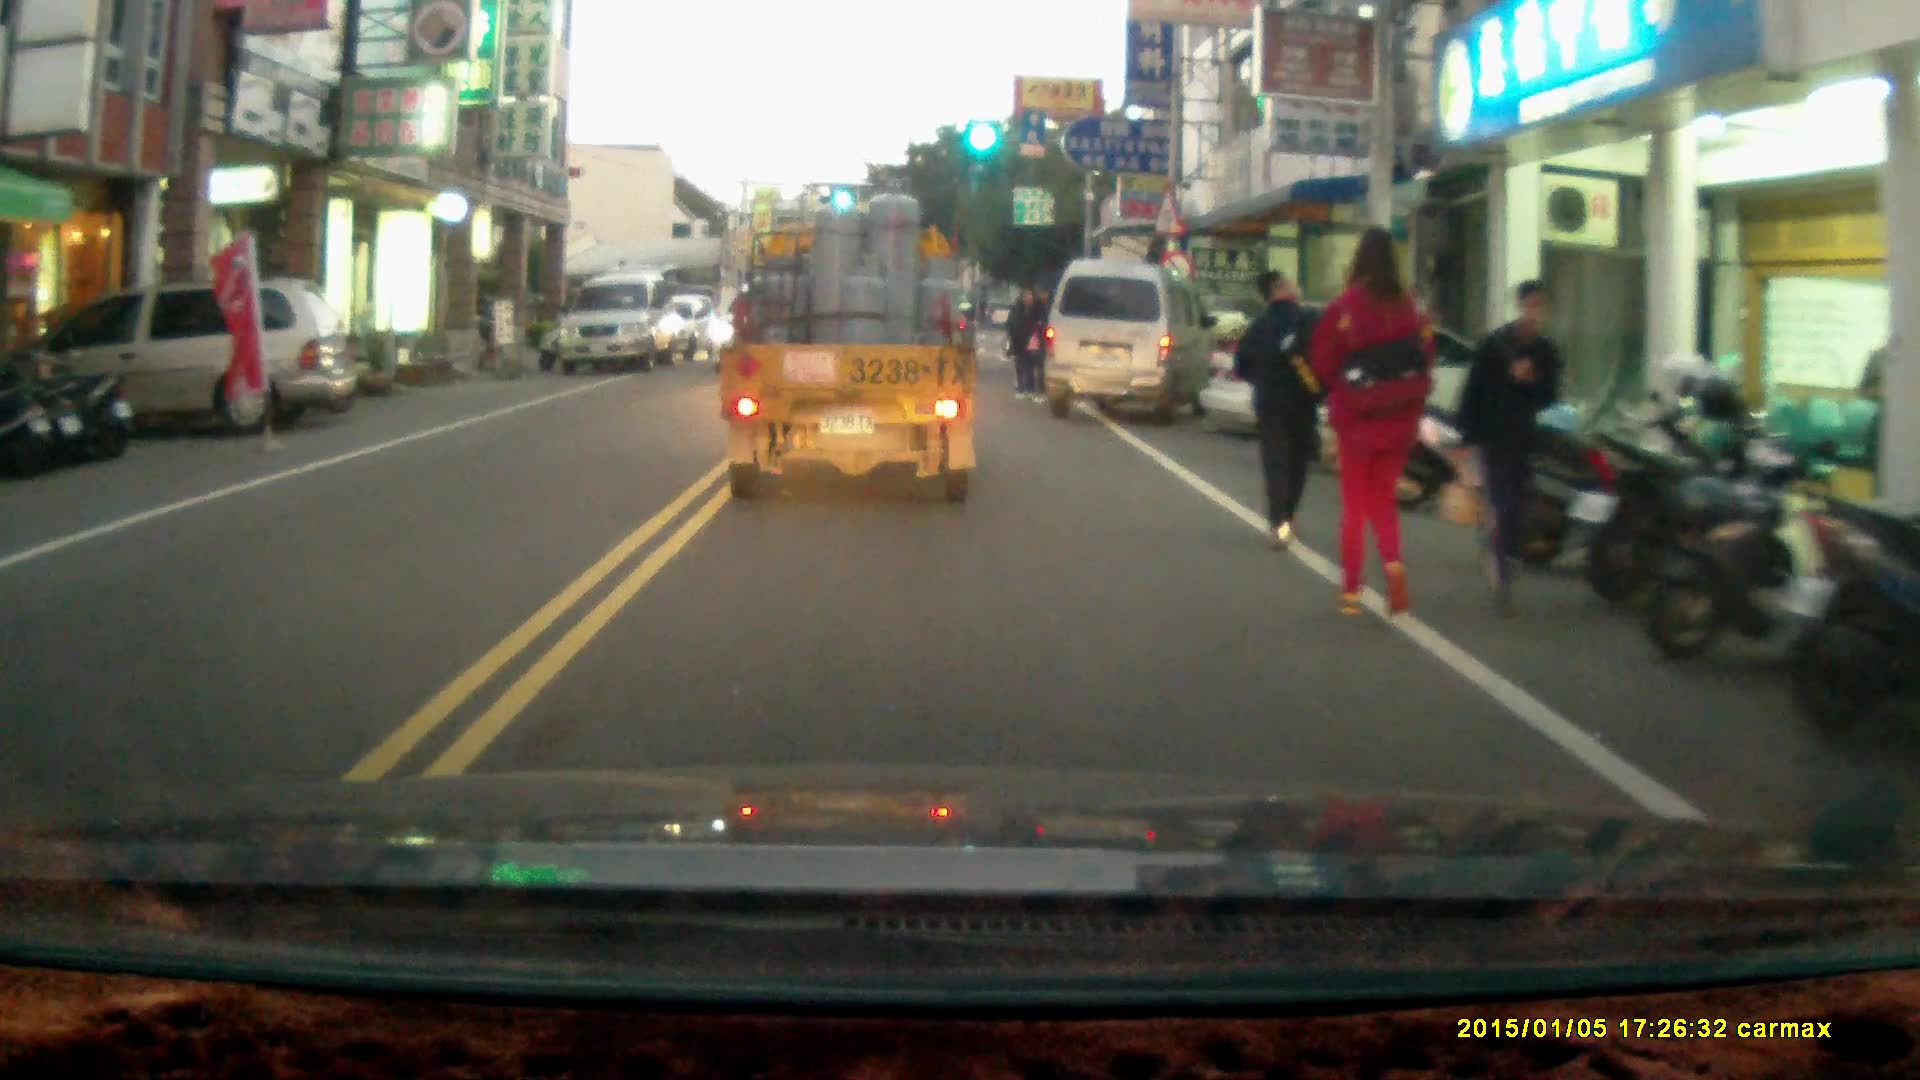pedestrian: (1308, 222, 1435, 619), (1457, 277, 1566, 624), (1233, 268, 1333, 555), (1003, 283, 1039, 399)
vehicle: (716, 172, 987, 511), (25, 278, 365, 443), (1044, 257, 1212, 421), (561, 273, 687, 377)
